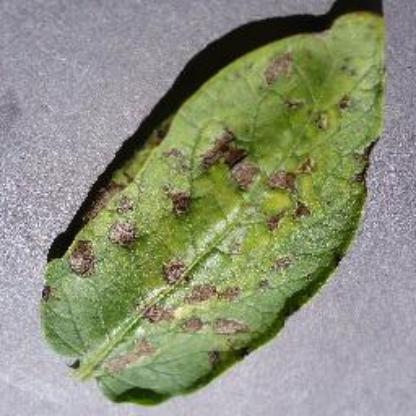Early-Blight: (44, 6, 402, 402)
